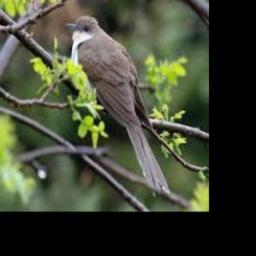Cuckoo: (64, 15, 171, 198)
